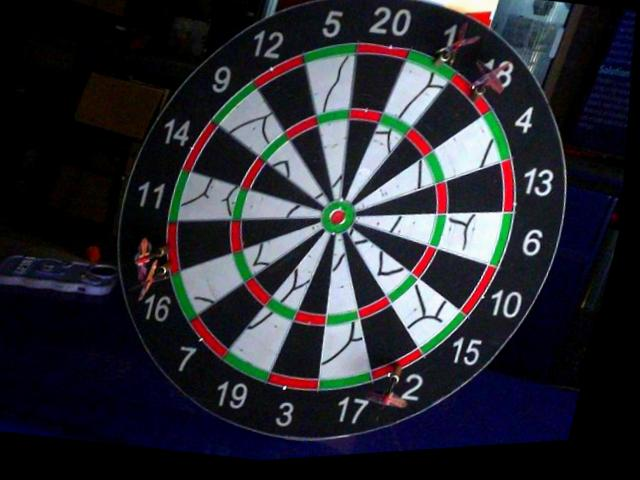double_1: (407, 53, 451, 74)
double_18: (448, 78, 490, 116)
double_2: (376, 348, 435, 374)
double_8: (166, 224, 182, 274)
